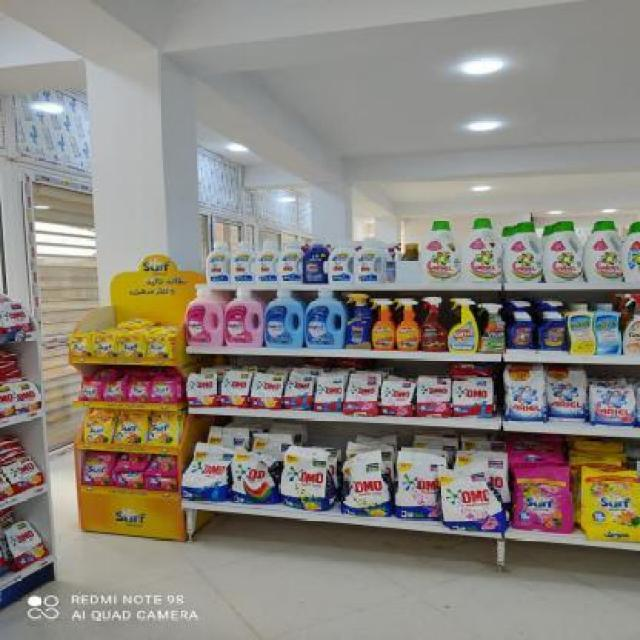Detergent: (455, 206, 508, 283), (540, 217, 589, 283), (419, 214, 463, 283), (500, 365, 549, 424), (584, 214, 624, 283), (588, 376, 640, 429), (502, 215, 543, 282), (548, 368, 592, 423)
